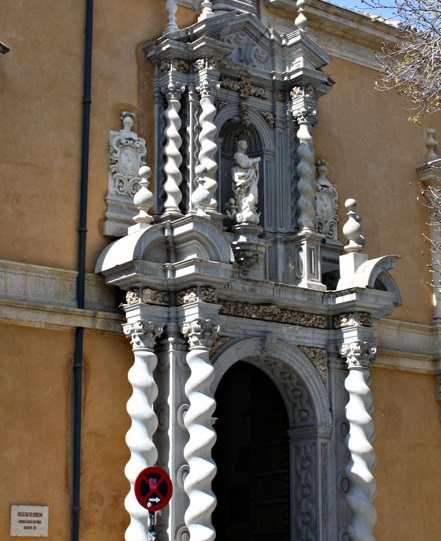arco-medio-punto: (209, 344, 333, 443)
columna-salomonica: (117, 331, 162, 541), (335, 352, 383, 541), (179, 341, 223, 541), (190, 91, 224, 216), (157, 94, 188, 216), (293, 119, 324, 233)
